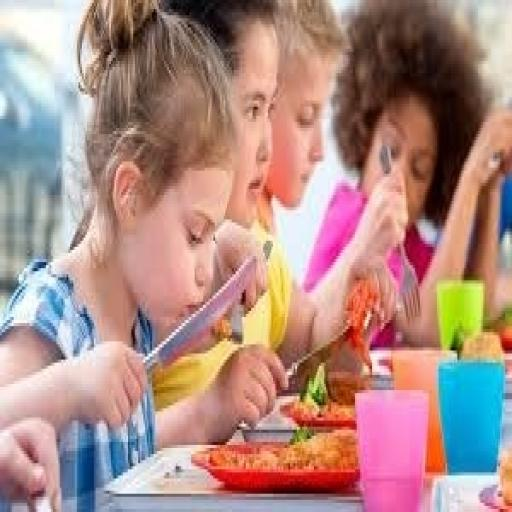eating: (0, 0, 290, 509), (300, 0, 510, 357)
